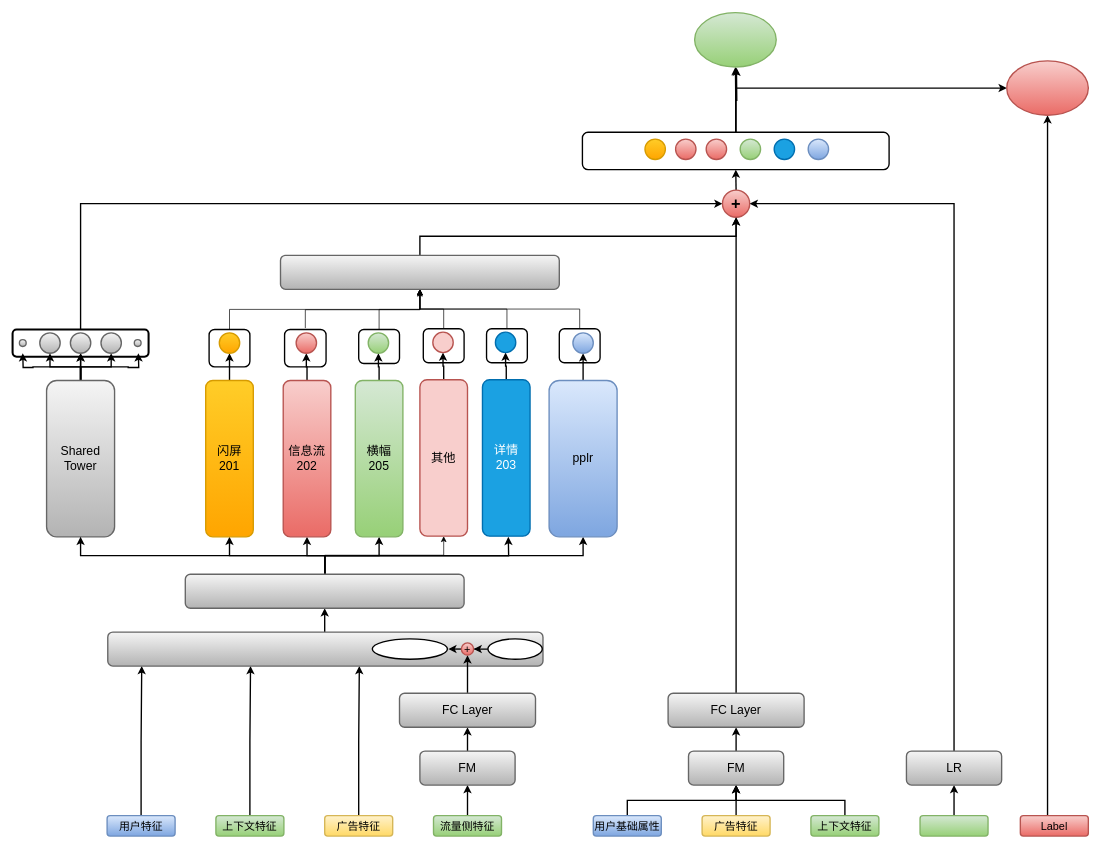
Image size: 1101x848. Some labels were removed from this diagram. Each missing label, with the box of its shape:
Concat Layer: (279, 254, 560, 290)
Emb Layer: (184, 573, 464, 609)
Field Weight: (487, 638, 543, 660)
FwFFM Layer: (107, 631, 543, 666)
Loss: (1006, 60, 1089, 116)
New Field Weight: (371, 638, 448, 660)
Pred: (694, 12, 777, 67)
广告位特征: (919, 815, 988, 836)
